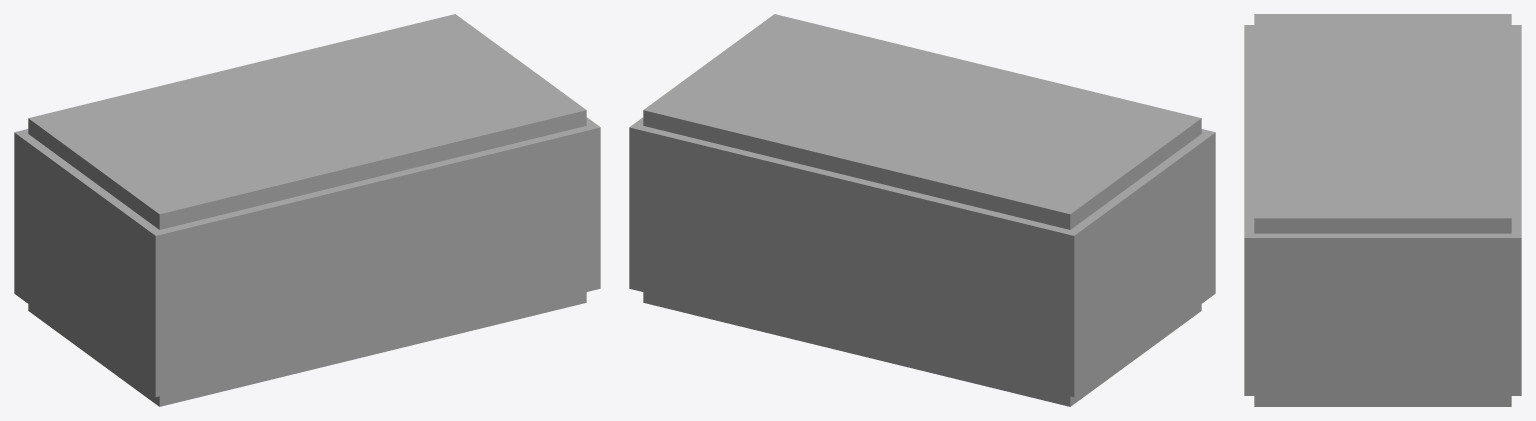
The model's file is Salida.fbx.
The picture shows the model from 3 angles, left to right: view 1: azimuth 30°, elevation 25°; view 2: azimuth 150°, elevation 25°; view 3: azimuth 270°, elevation 25°; orthographic projection. The views are drawn at different scales.
Visible parts, largest first — view 1: Salida; view 2: Salida; view 3: Salida.
Boxes of the visible parts, left/top/right/bottom form: Salida: left=14, top=14, right=600, bottom=406; Salida: left=629, top=14, right=1215, bottom=406; Salida: left=1244, top=14, right=1521, bottom=406.
Size of the model in its own units: 47.23 by 19.63 by 26.04.
